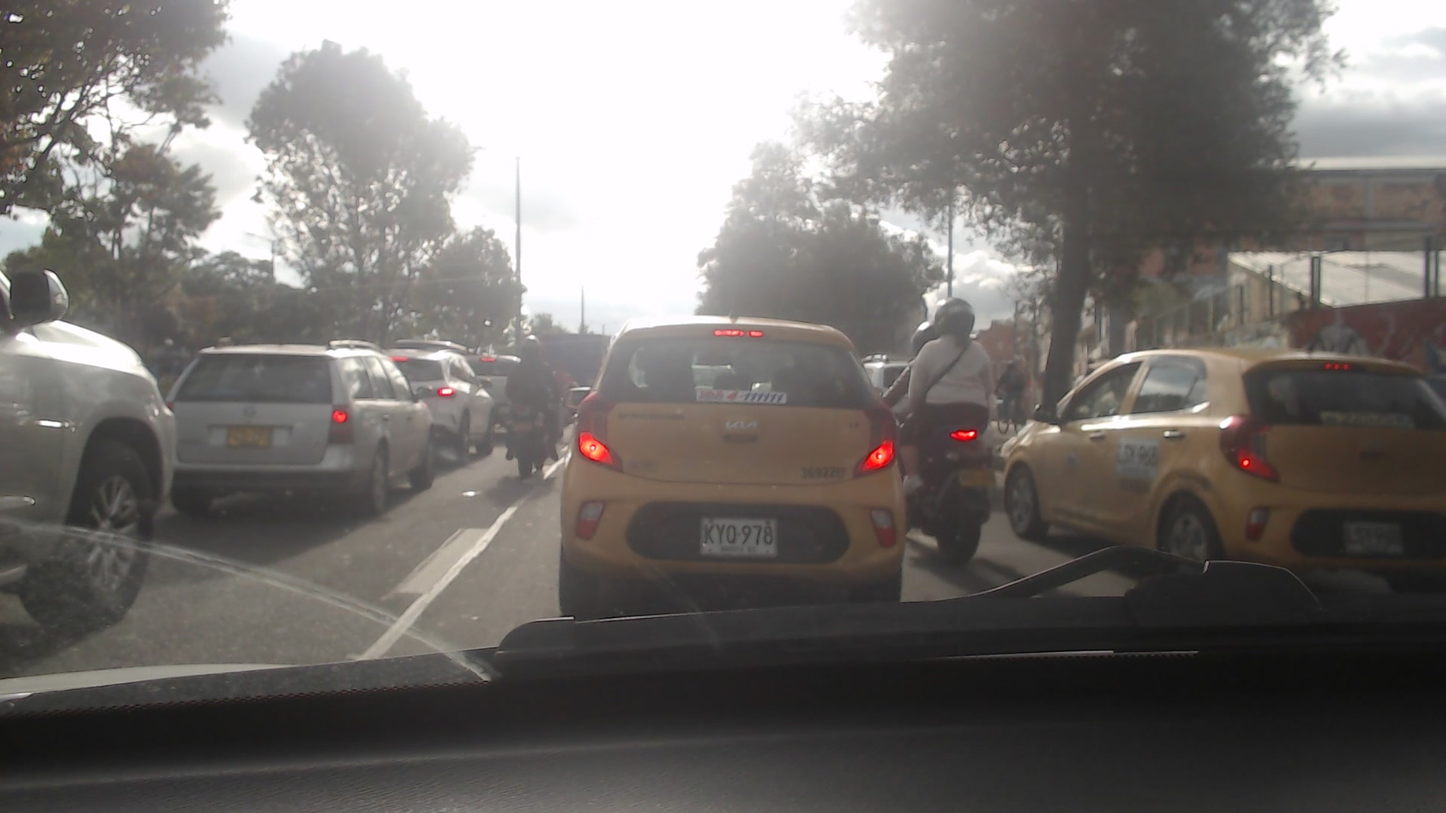car: (996, 347, 1446, 580), (565, 311, 910, 610), (160, 342, 444, 506), (372, 344, 496, 453)
motorcycle: (898, 425, 993, 570), (503, 395, 553, 480)
person: (922, 298, 994, 439), (506, 332, 554, 439)
